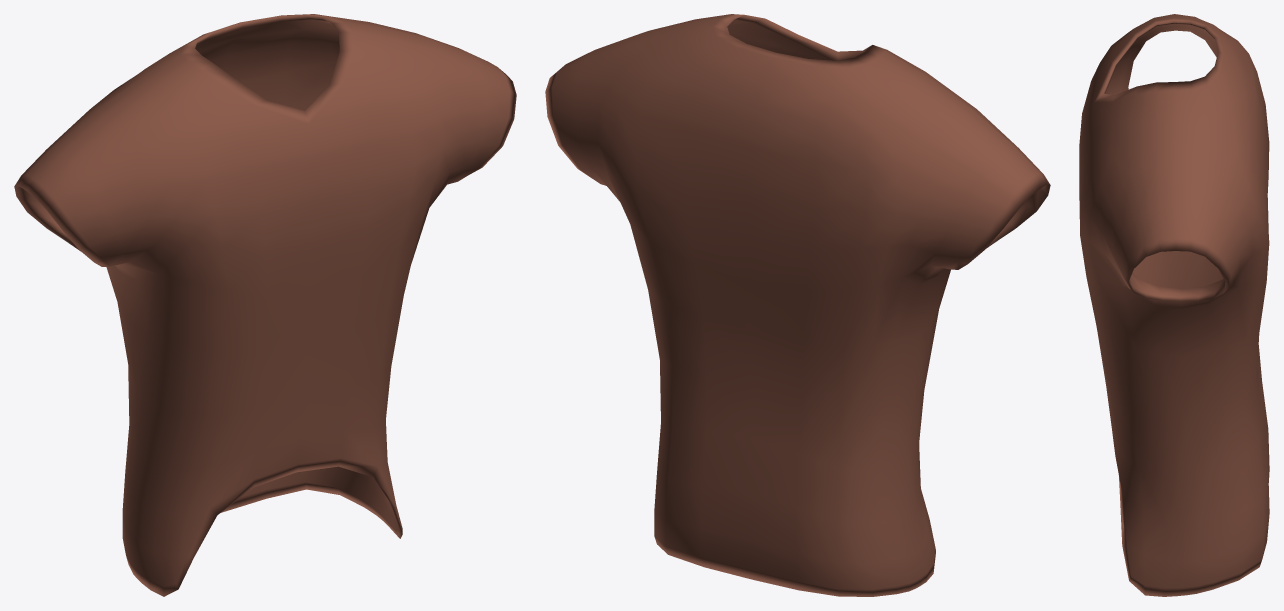
Rendered from leather_cuirass.gltf.
3 renders of one model, left to right at view 1: azimuth 30°, elevation 25°; view 2: azimuth 150°, elevation 25°; view 3: azimuth 270°, elevation 25°, orthographic. The views are drawn at different scales.
Parts seen in each view (by area): view 1: Cube; view 2: Cube; view 3: Cube.
Boxes of the visible parts, box(x1,y1,x2,y2) form: Cube: box(14, 14, 516, 596); Cube: box(545, 14, 1050, 596); Cube: box(1079, 14, 1269, 596).
Bounding box in the file's own units: 0.5763 × 0.5947 × 0.2096.
